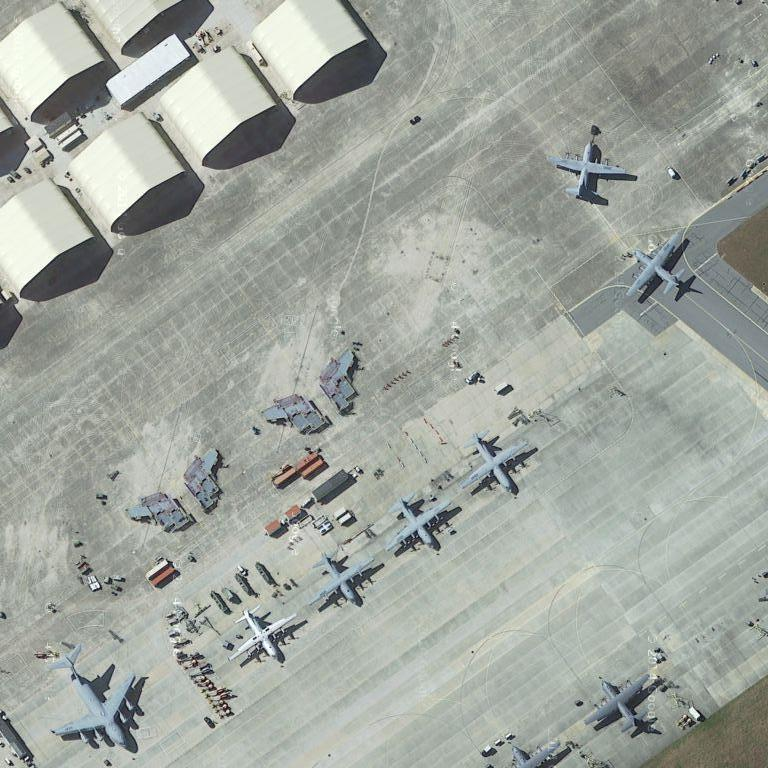C-130: (550, 133, 629, 206), (621, 226, 694, 305), (302, 545, 381, 615), (582, 667, 660, 735), (381, 492, 456, 555), (227, 603, 300, 666), (461, 433, 535, 494)
C-17: (49, 639, 147, 752)
